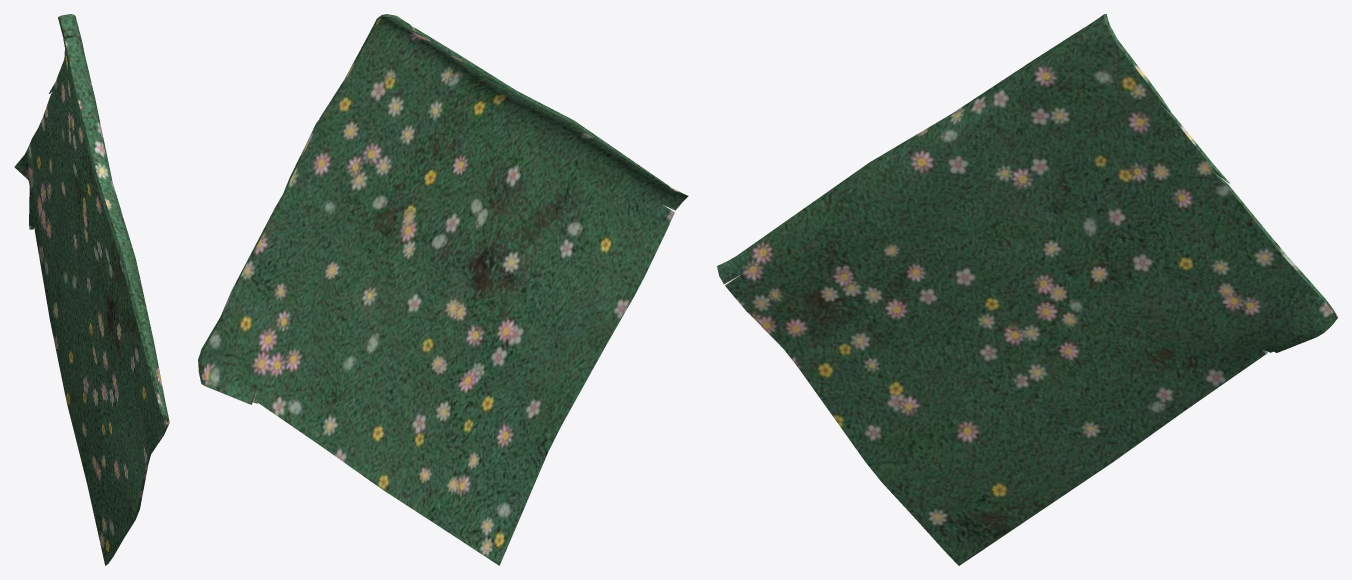
The model's file is floorpaper.entity_iconrender.glb.
The picture shows the model from 3 angles, left to right: view 1: azimuth 30°, elevation 25°; view 2: azimuth 150°, elevation 25°; view 3: azimuth 270°, elevation 25°; orthographic projection. The views are drawn at different scales.
Parts seen in each view (by area): view 1: w_floorpaper_LOD0; view 2: w_floorpaper_LOD0; view 3: w_floorpaper_LOD0.
Boxes of the visible parts, x1,y1,x2,y2 form: w_floorpaper_LOD0: [14, 14, 169, 565]; w_floorpaper_LOD0: [198, 14, 688, 565]; w_floorpaper_LOD0: [717, 14, 1337, 565].
Bounding box in the file's own units: 0.1946 × 0.6742 × 0.6737.
Materials: 1 (1 with a texture image).
